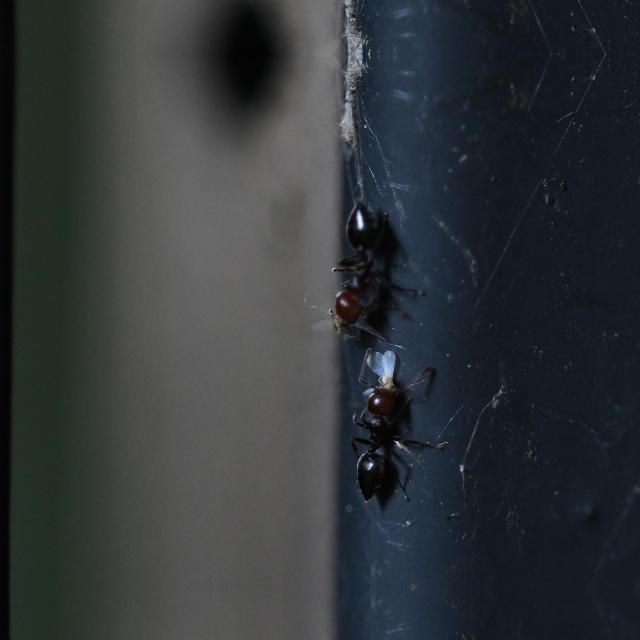Crematogaster: (342, 354, 436, 494), (314, 202, 392, 334)
